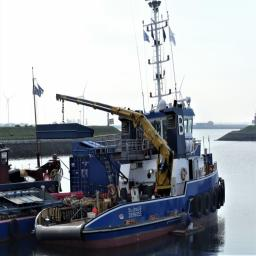tugboat: (34, 85, 230, 254)
